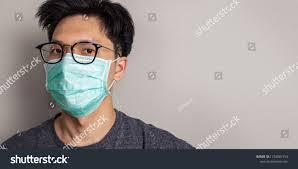mask: (41, 50, 119, 124)
sunglasses: (33, 38, 105, 68)
